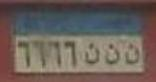6: (63, 39, 78, 68), (32, 39, 46, 69), (17, 38, 31, 68), (48, 40, 62, 67)
noon: (84, 42, 103, 66), (123, 44, 140, 65), (105, 43, 120, 65)
